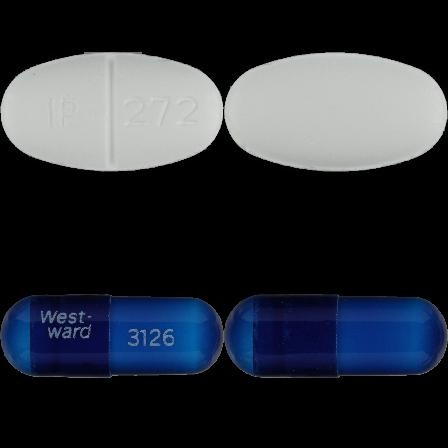0615-0170: (0, 0, 224, 224)
